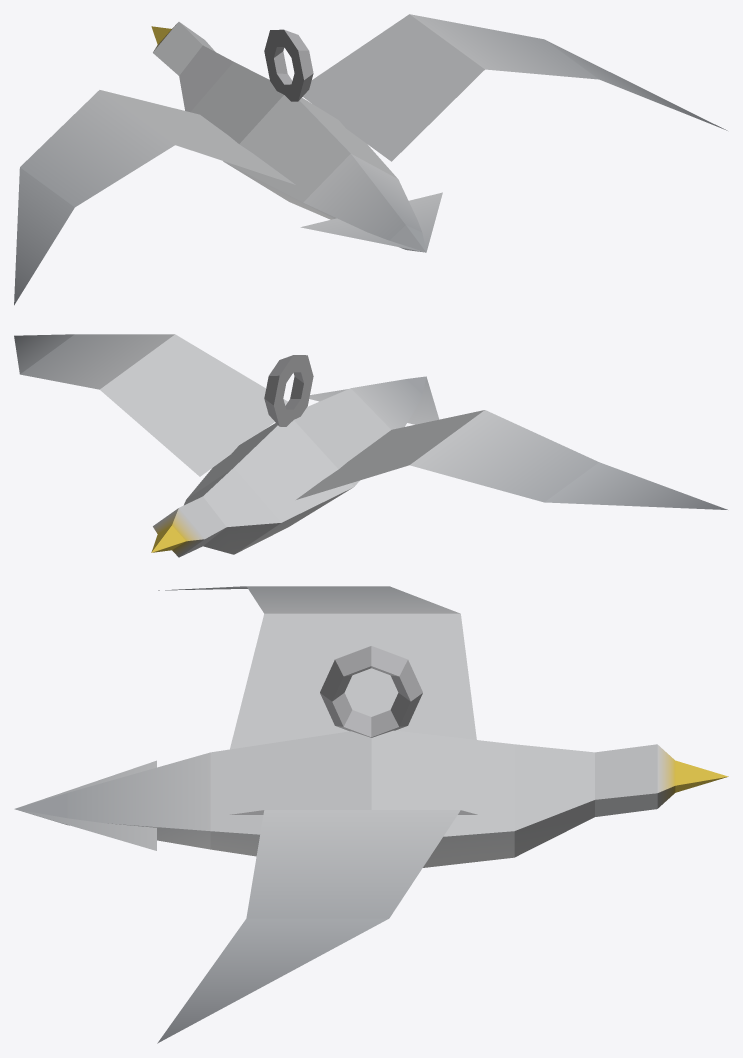
The model's file is gull_charm.glb.
The picture shows the model from 3 angles, top to bottom: view 1: azimuth 30°, elevation 25°; view 2: azimuth 150°, elevation 25°; view 3: azimuth 270°, elevation 25°; orthographic projection. The views are drawn at different scales.
Visible parts, largest first — view 1: GullCharm; view 2: GullCharm; view 3: GullCharm.
Boxes of the visible parts, box(x1,y1,x2,y2) form: GullCharm: box(14, 14, 727, 305); GullCharm: box(14, 334, 727, 557); GullCharm: box(14, 586, 728, 1043).
Bounding box in the file's own units: 0.06 × 0.0139 × 0.04.
